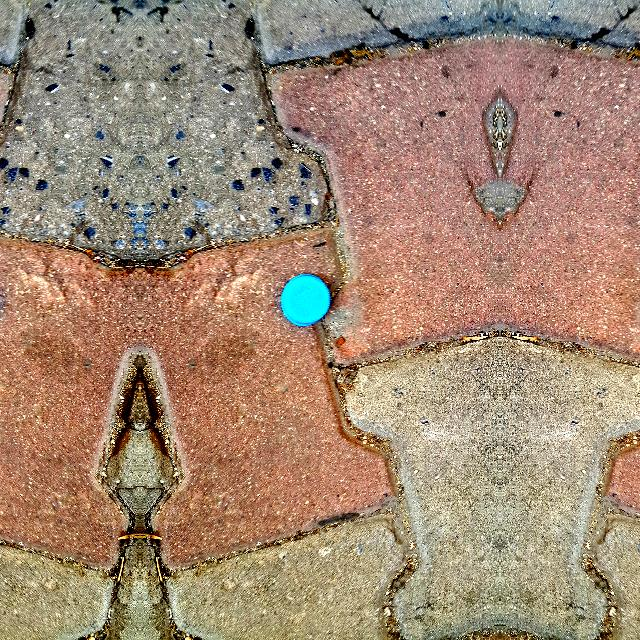Plastic: (269, 267, 345, 333)
